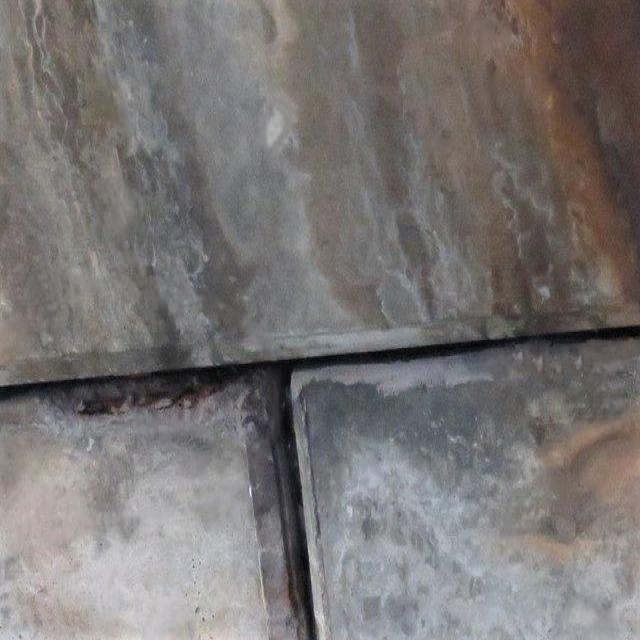Rebar: (33, 368, 265, 440)
